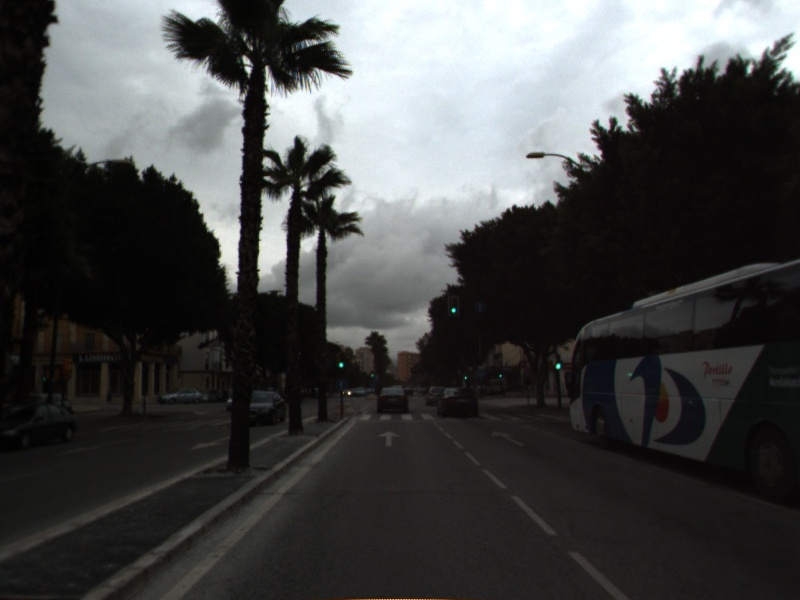STRAIGHT: (489, 428, 527, 449), (375, 429, 403, 449)
